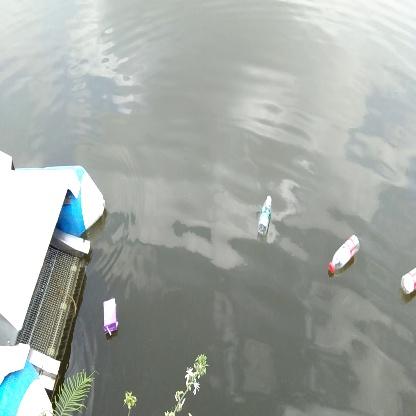bottle: (327, 233, 364, 278), (257, 192, 276, 237)
milk-box: (100, 296, 122, 339)
